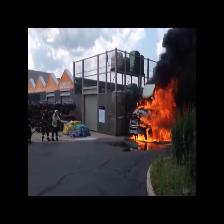fire: (140, 89, 172, 144)
smoke: (161, 28, 196, 89)
